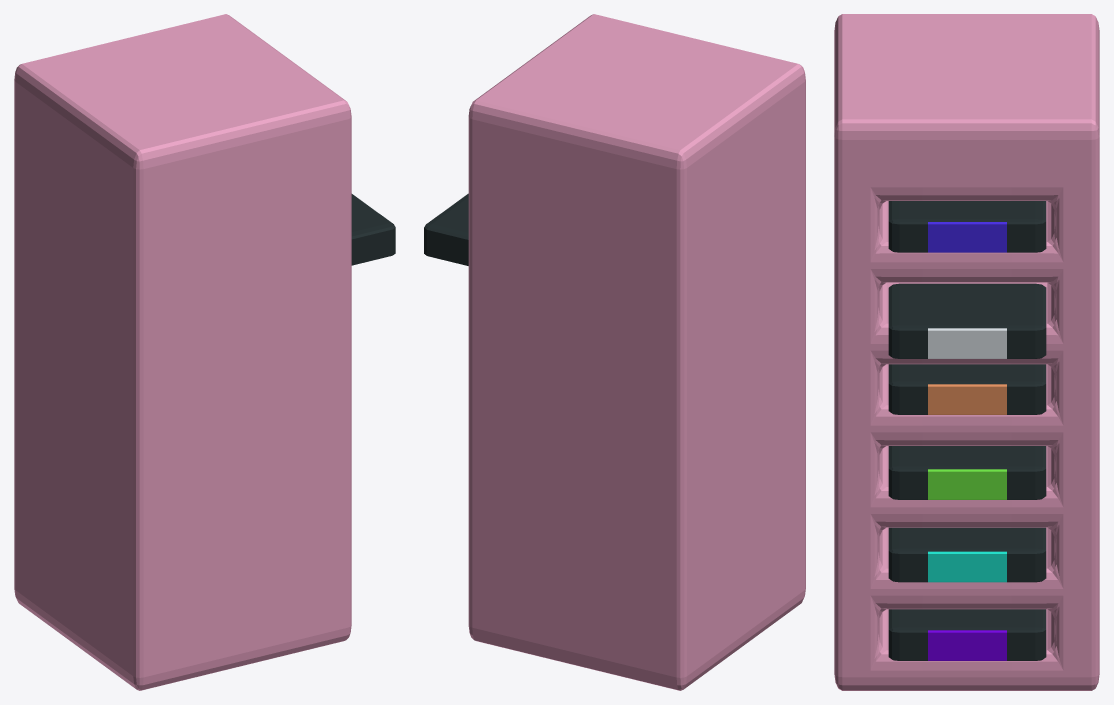
File: shelfState5.glb
The picture shows the model from 3 angles, left to right: view 1: azimuth 30°, elevation 25°; view 2: azimuth 150°, elevation 25°; view 3: azimuth 270°, elevation 25°; orthographic projection. The views are drawn at different scales.
Visible parts, largest first — view 1: Cube, Cube.002; view 2: Cube, Cube.002; view 3: Cube, Cube.002, Cube.005, Cube.004, Cube.006, Cube.003, Cube.001.
Part boxes in pixels (x1,y1,x2,y2): Cube: (14, 14, 351, 690); Cube.002: (351, 193, 395, 265); Cube: (468, 14, 805, 690); Cube.002: (424, 193, 468, 265); Cube: (834, 14, 1099, 690); Cube.002: (888, 283, 1046, 358); Cube.005: (888, 527, 1046, 582); Cube.004: (888, 446, 1046, 499); Cube.006: (888, 609, 1046, 660); Cube.003: (888, 201, 1046, 252); Cube.001: (888, 364, 1046, 414).
Size of the model in its own units: 2.65 by 4.76 by 2.
